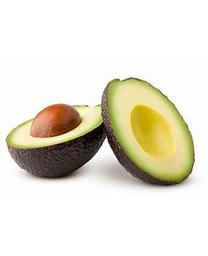avocado: (100, 76, 196, 187), (5, 101, 114, 180)
